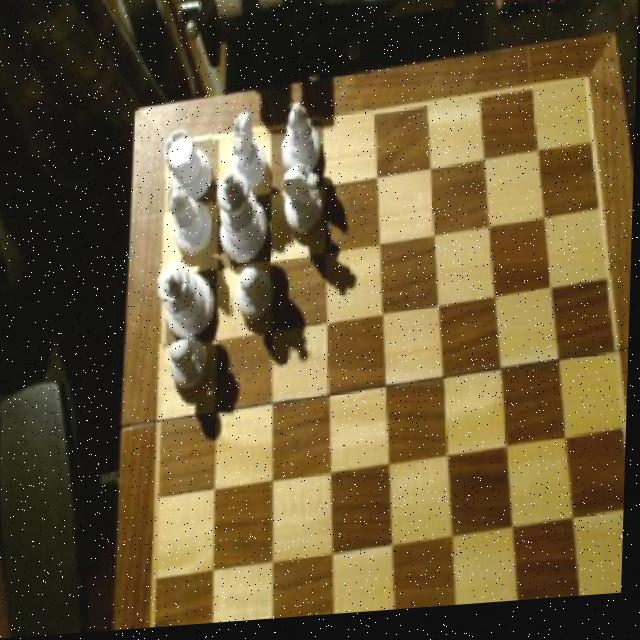black-rook: (166, 189, 215, 261), (279, 105, 325, 179)
white-bishop: (213, 173, 274, 273)
white-king: (226, 113, 266, 197), (279, 167, 322, 242)
white-knight: (164, 341, 209, 404), (231, 264, 275, 328)
white-pawn: (156, 259, 217, 346)
white-queen: (161, 124, 216, 216)
